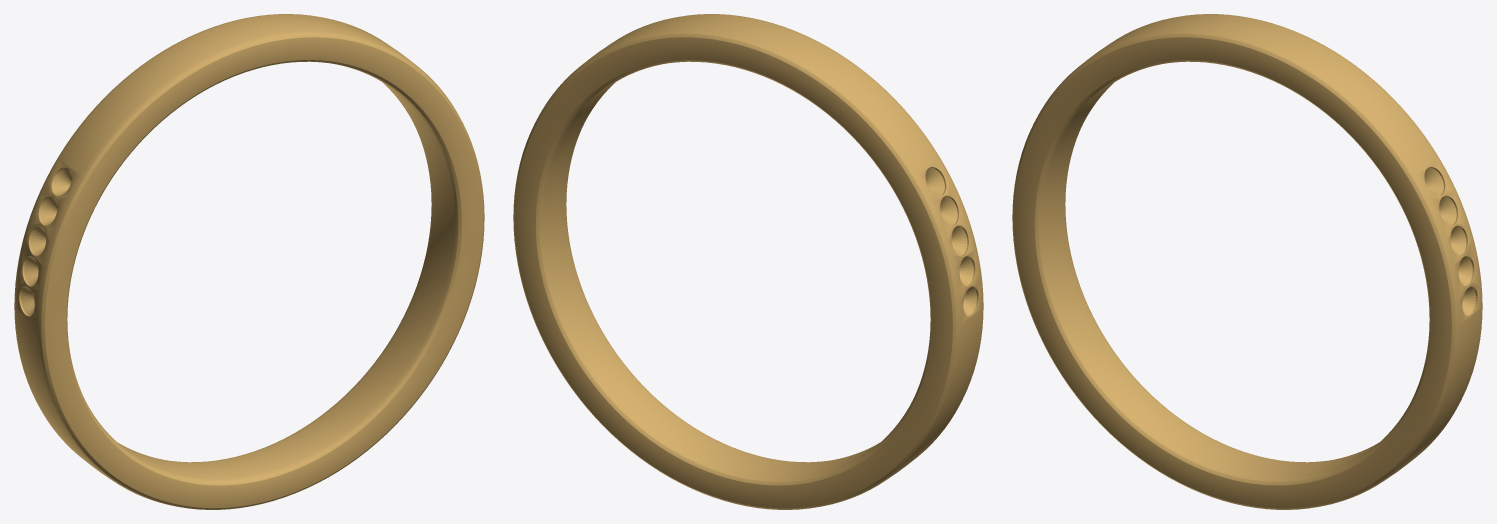
Rendered from soft-square-micro-pave-wide.glb.
3 renders of one model, left to right at view 1: azimuth 30°, elevation 25°; view 2: azimuth 150°, elevation 25°; view 3: azimuth 330°, elevation 25°, orthographic.
Parts seen in each view (by area): view 1: Band; view 2: Band; view 3: Band.
Part boxes in pixels (x1,y1,x2,y2): Band: (14, 14, 484, 509); Band: (513, 14, 983, 509); Band: (1012, 14, 1482, 509).
Size of the model in its own units: 19.6 by 19.6 by 2.3.
